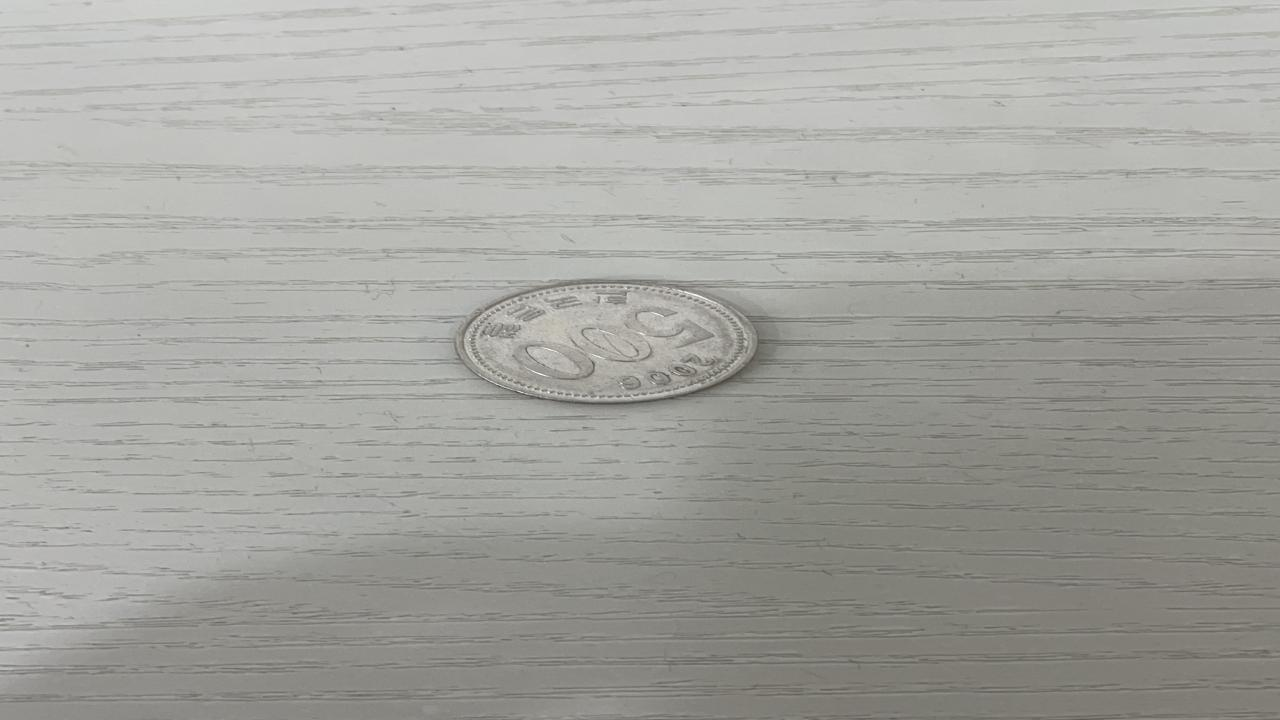coin: (454, 282, 759, 403)
